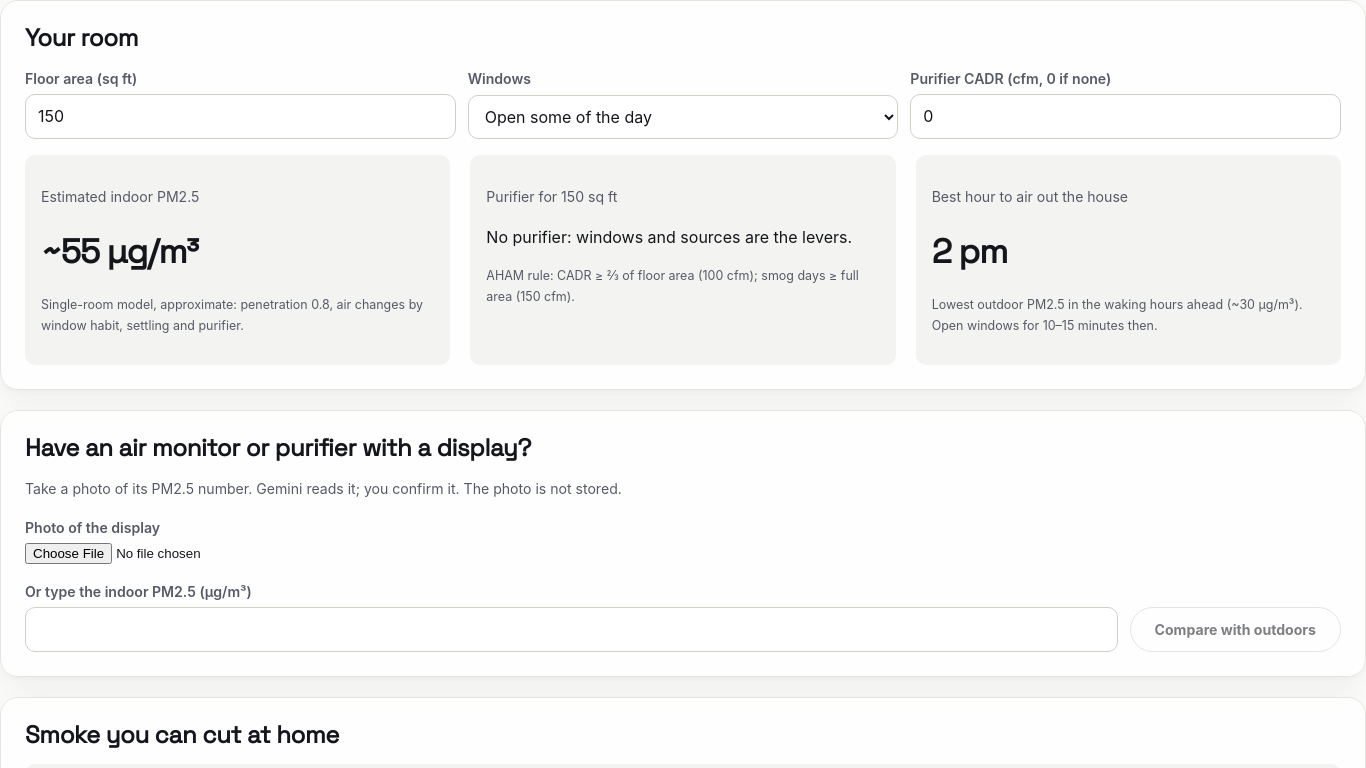
it: HomeView › judges the purifier size
Replace the text in the number field labelled "Purifier CADR (cfm, 0 if none)" with "50" at (1126, 116), box [910,94,1341,138]
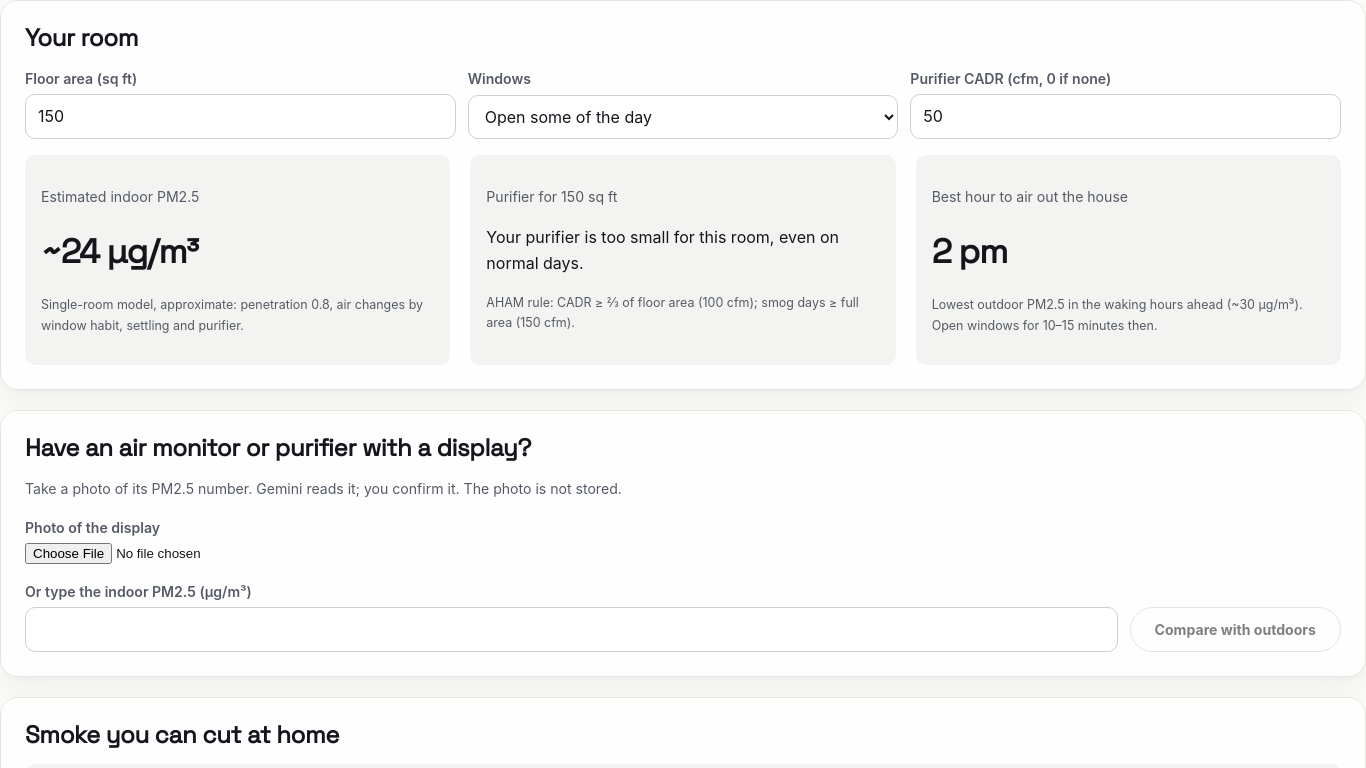
Check: the text "too small for this room, even on normal days" is shown, box [486,227,839,273]
Replace the text in the number field labelled "Purifier CADR (cfm, 0 if none)" with "120" at (1126, 116), box [910,94,1341,138]
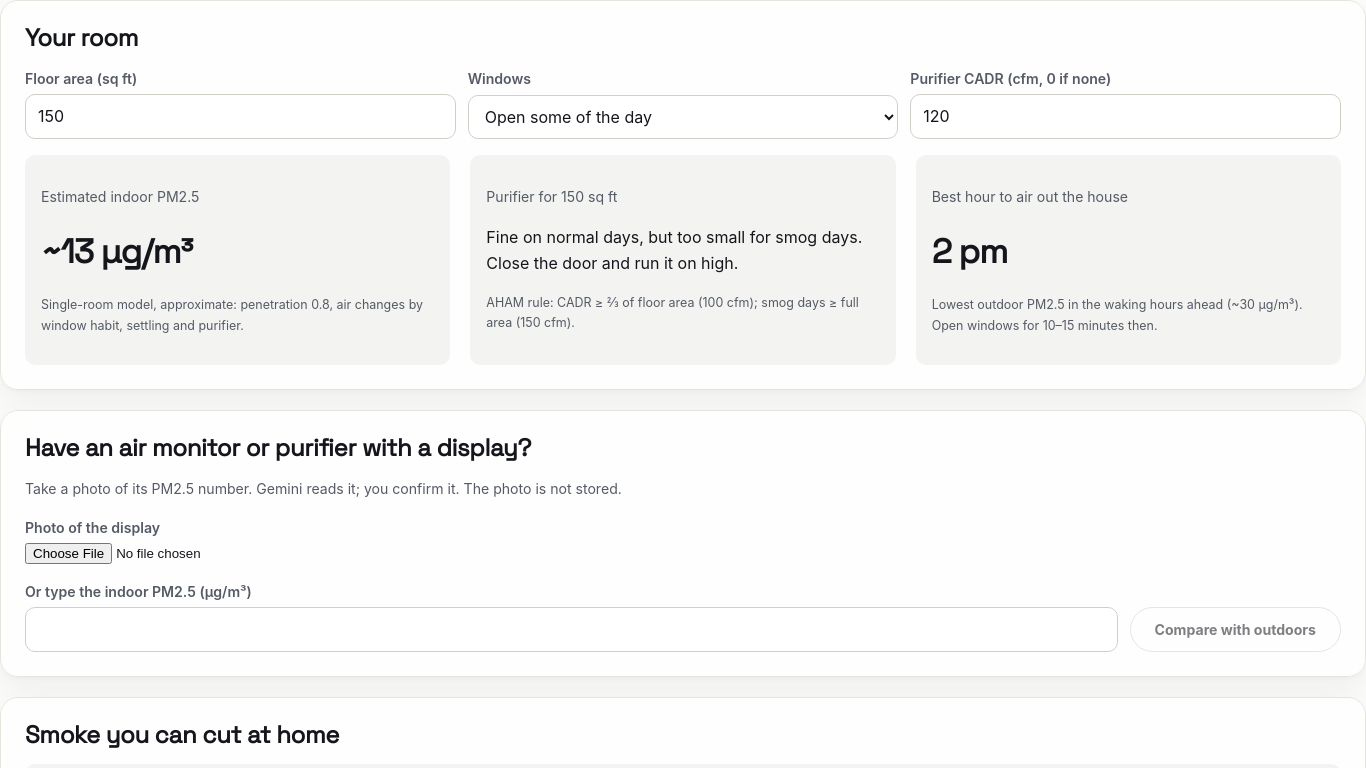
Check: the text "Fine on normal days, but too small for smog" is shown, box [486,227,862,273]
Replace the text in the number field labelled "Purifier CADR (cfm, 0 if none)" with "200" at (1126, 116), box [910,94,1341,138]
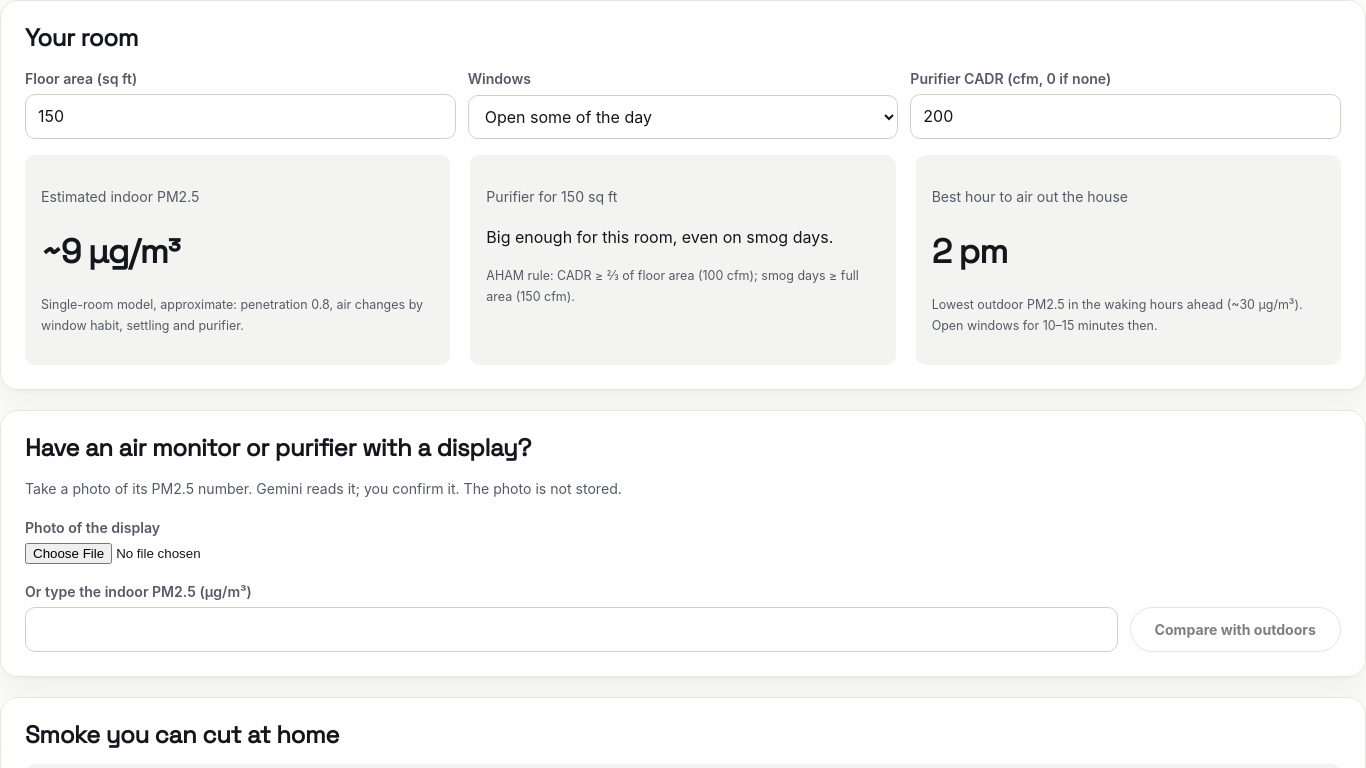
Check: the text "Big enough for this room, even on smog days." is shown, box [486,224,880,250]
